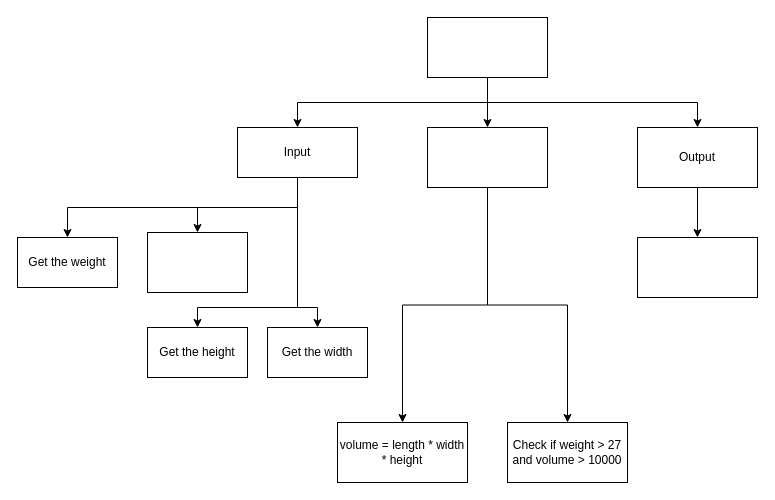
Some shapes in this 775 by 500 pixel diagram are drawn without their labels. The shapes that lost their labels are listed below. From the top down, each one's centre as x and y in pixels, then its label:
At point 487,47: "package".
At point 487,157: "Process".
At point 197,262: "Get the length".
At point 697,267: "Show the result".
